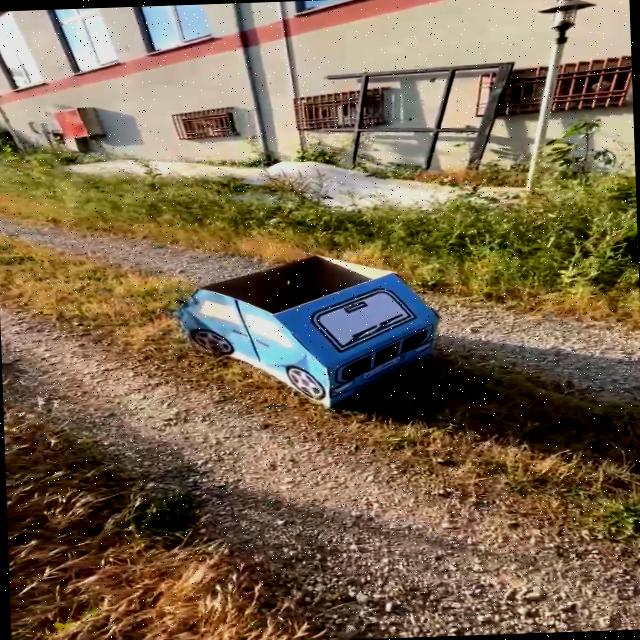blue_car: (109, 226, 519, 445)
